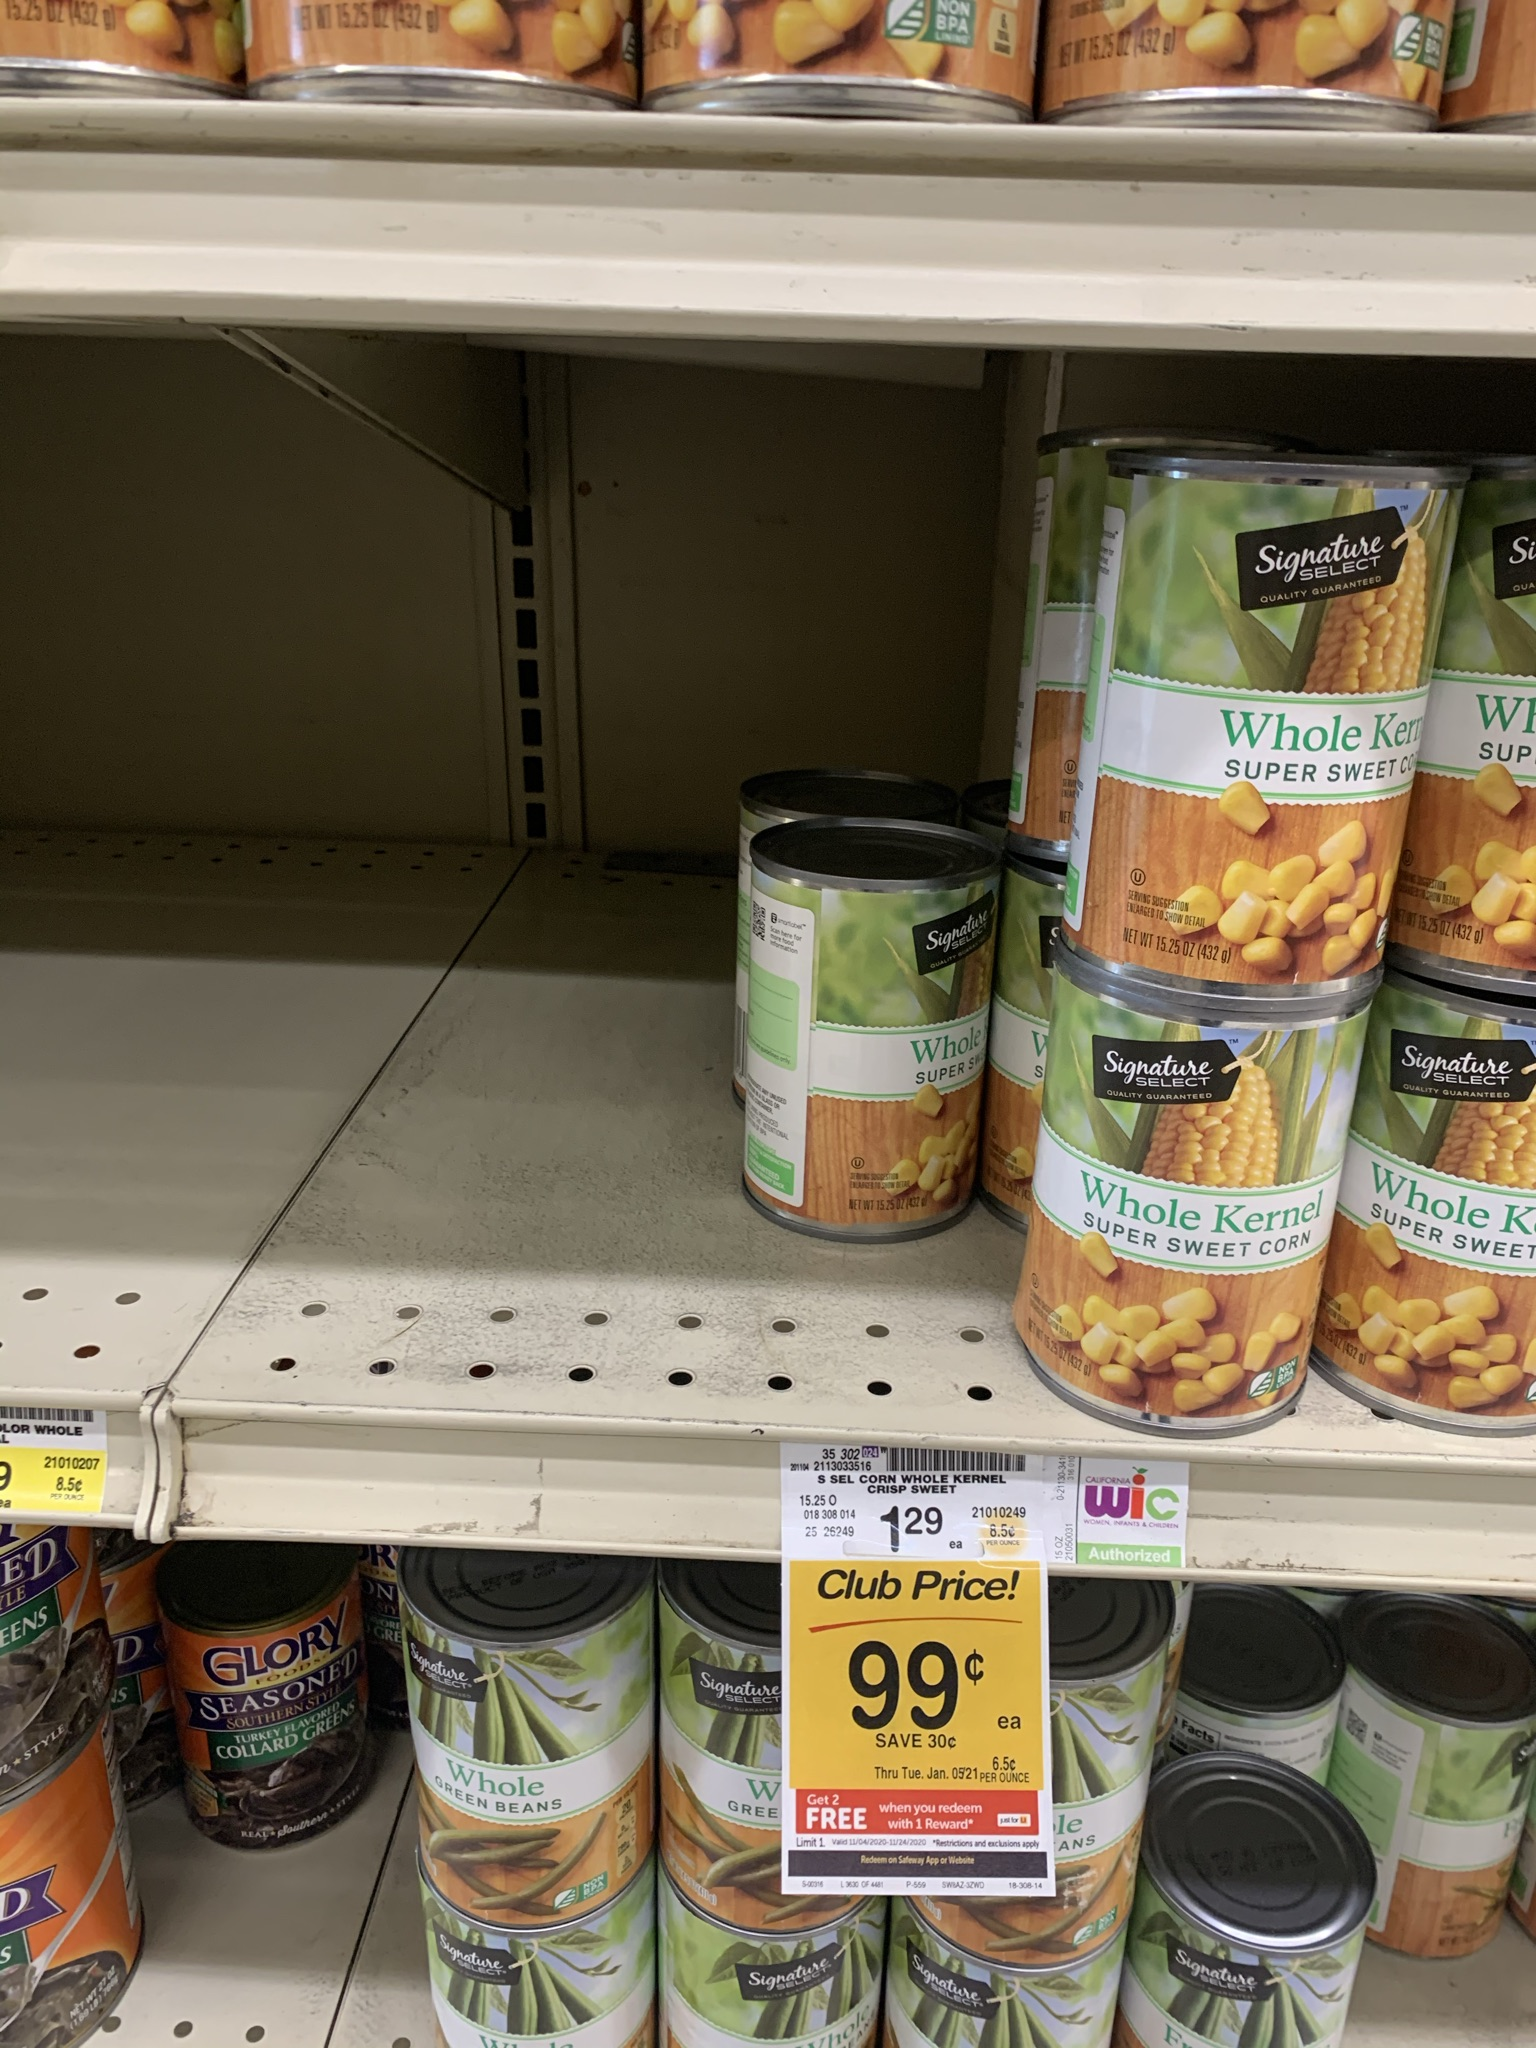can: (1065, 448, 1436, 997), (1013, 987, 1328, 1438), (744, 851, 991, 1243), (1346, 997, 1530, 1440), (411, 1595, 653, 1887), (1360, 1705, 1507, 1938), (198, 1614, 349, 1834), (1173, 1850, 1338, 2040)
